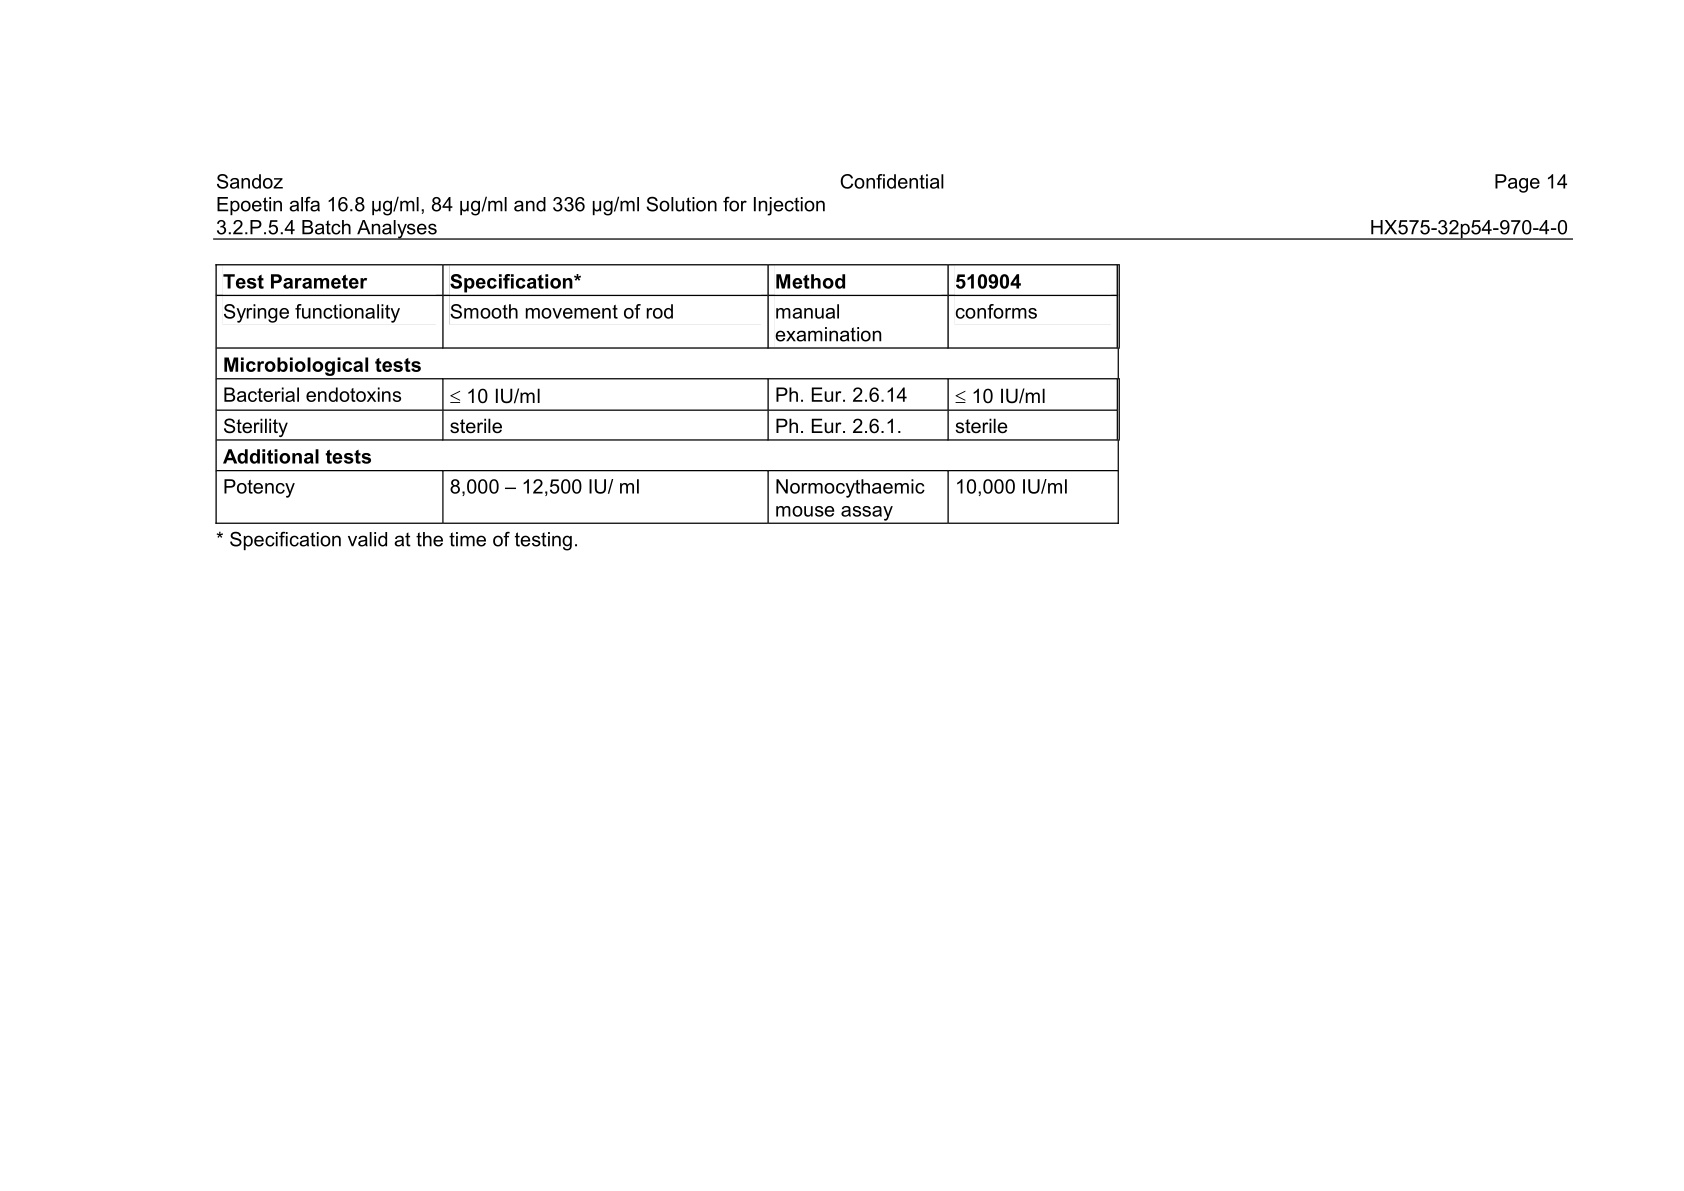merged_cells: (214, 260, 1121, 526)
